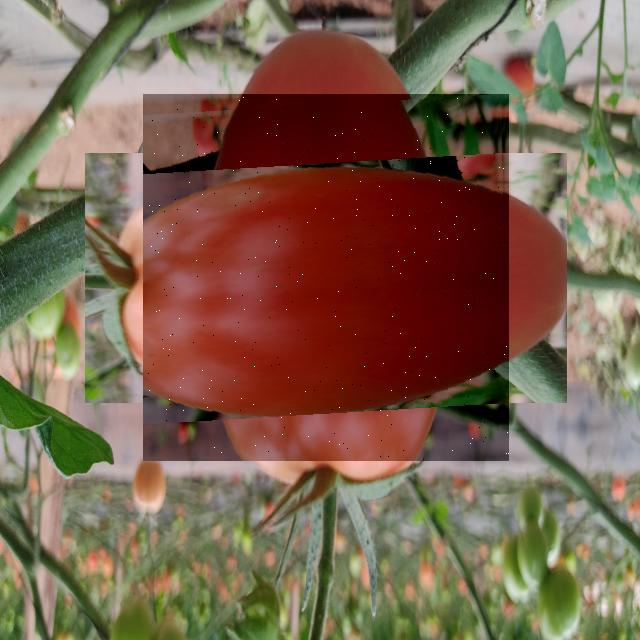Ripe Tomato: (143, 94, 509, 461)
